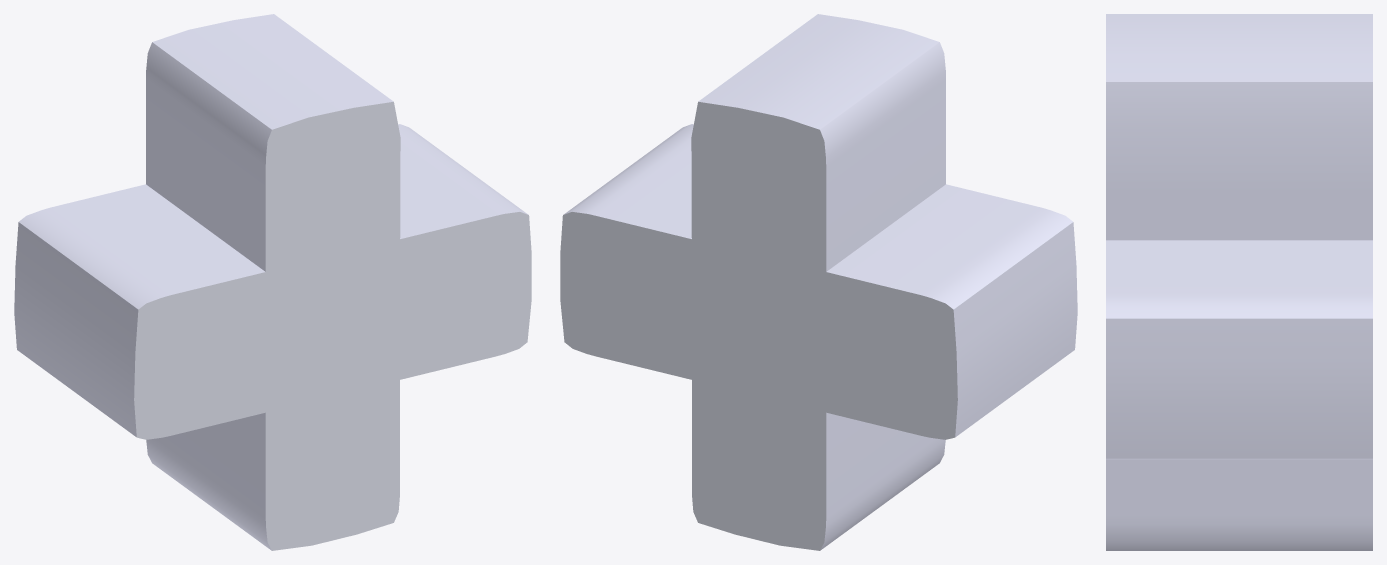
3 views of the same model, side by side, from view 1: azimuth 30°, elevation 25°; view 2: azimuth 150°, elevation 25°; view 3: azimuth 270°, elevation 25° (orthographic). The views are drawn at different scales.
Visible parts, largest first — view 1: symbol+_Zyzol_Grey; view 2: symbol+_Zyzol_Grey; view 3: symbol+_Zyzol_Grey.
Boxes of the visible parts, bbox=[...] form: symbol+_Zyzol_Grey: bbox=[14, 14, 531, 550]; symbol+_Zyzol_Grey: bbox=[560, 14, 1077, 550]; symbol+_Zyzol_Grey: bbox=[1106, 14, 1372, 550].
Size of what is drawn, in the model's own units: 0.0862 by 0.0888 by 0.045.
2 materials, 2 textured.
